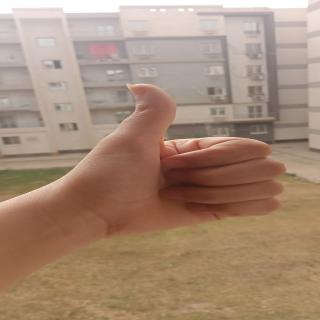ALIF: (54, 75, 318, 244)
